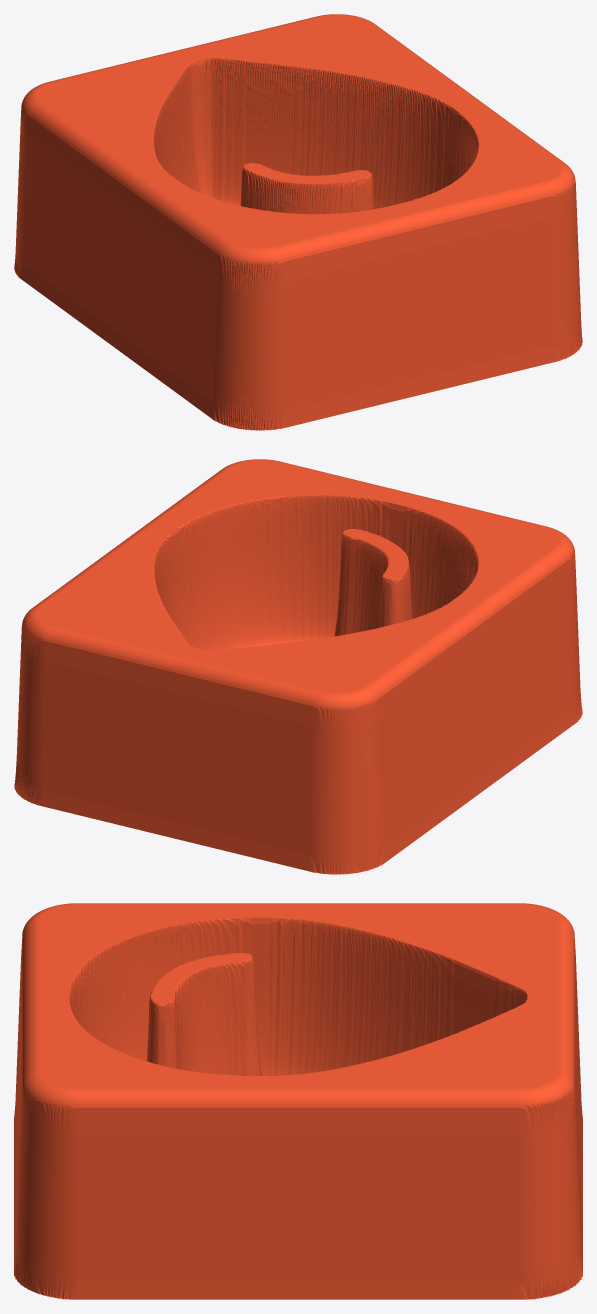
File: mold.glb
The picture shows the model from 3 angles, top to bottom: view 1: azimuth 30°, elevation 25°; view 2: azimuth 150°, elevation 25°; view 3: azimuth 270°, elevation 25°; orthographic projection. The views are drawn at different scales.
Parts seen in each view (by area): view 1: geometry_0; view 2: geometry_0; view 3: geometry_0.
Boxes of the visible parts, left/top/right/bottom form: geometry_0: left=14, top=14, right=582, bottom=430; geometry_0: left=14, top=459, right=582, bottom=874; geometry_0: left=14, top=903, right=582, bottom=1299.
Bounding box in the file's own units: 0.0682 × 0.031 × 0.0798.
